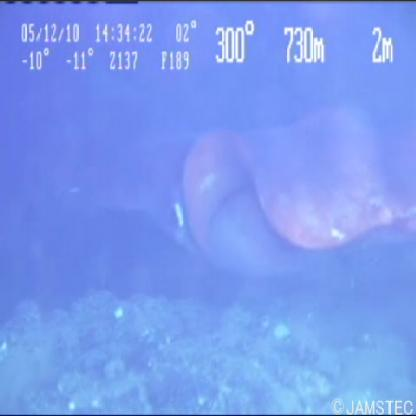Bio: (77, 96, 416, 284)
